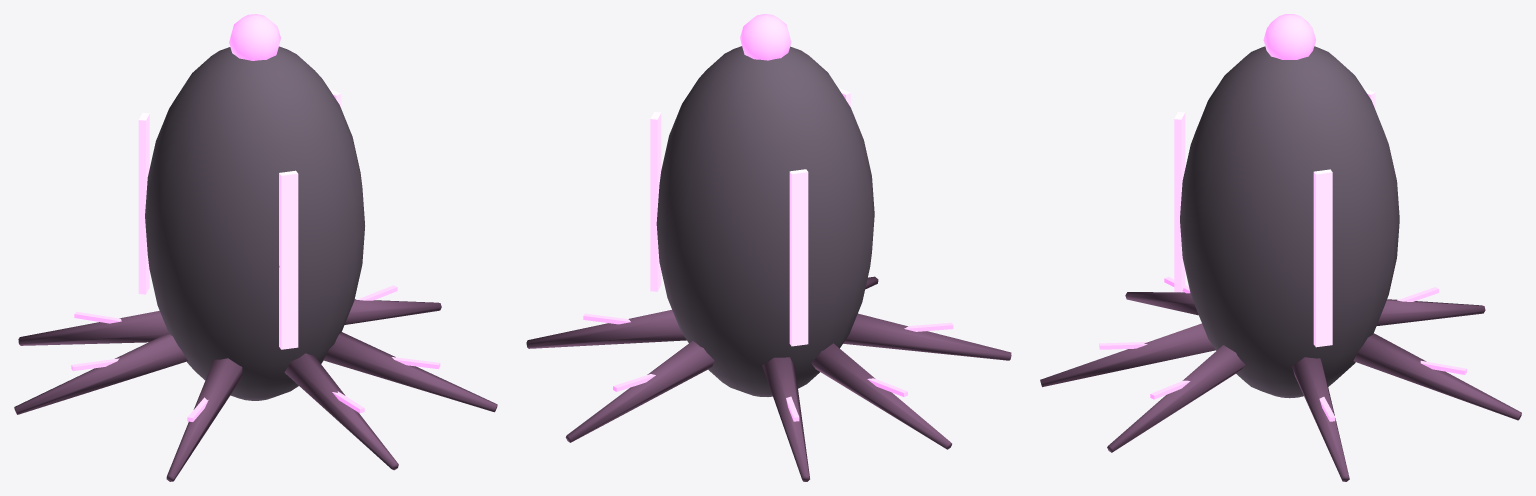
File: v_alien_pod.glb
The picture shows the model from 3 angles, left to right: view 1: azimuth 30°, elevation 25°; view 2: azimuth 150°, elevation 25°; view 3: azimuth 270°, elevation 25°; orthographic projection.
Parts seen in each view (by area): view 1: Alien_pod; view 2: Alien_pod; view 3: Alien_pod.
Part boxes in pixels (box(x1,y1,x2,y2)): Alien_pod: box(14, 14, 497, 481); Alien_pod: box(526, 14, 1011, 481); Alien_pod: box(1040, 14, 1521, 481).
Size of what is drawn, in the model's own units: 3.34 by 2.83 by 3.29.
